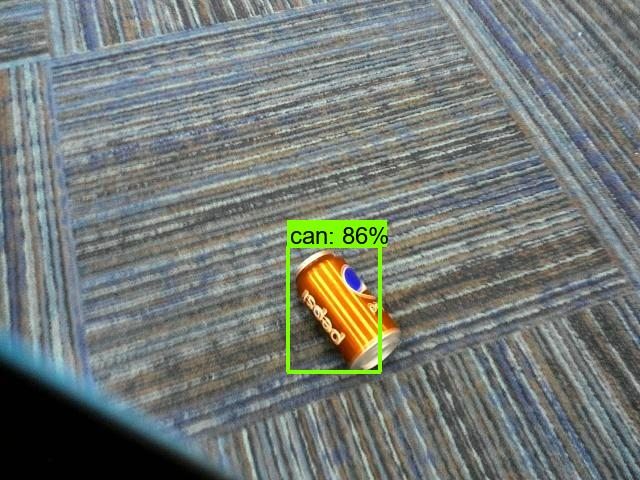can: (286, 242, 406, 380)
